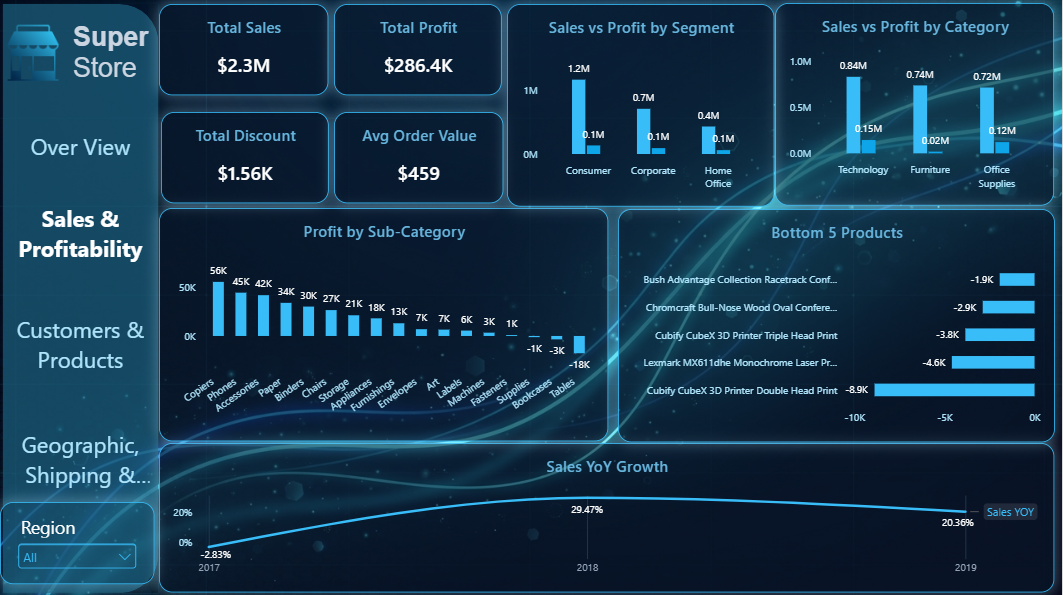

What the dashboard file says about the page in this screenshot:
{"tool":"powerbi","page":{"name":"Sales & Profitability","canvas":[1280,720],"ordinal":2},"visuals":[{"type":"group","id":"g1","title":"Group 2","box":[3.2,7.2,191.4,709.4],"z":0},{"type":"shape","box":[5.2,7.2,187.4,709.4],"z":0,"group":"g2"},{"type":"group","id":"g2","title":"Group 1","box":[5.2,7.2,187.4,709.4],"z":0,"group":"g1"},{"type":"textbox","box":[89.6,28.7,103,81.5],"z":1000,"group":"g2"},{"type":"actionButton","title":"Over View","box":[3.2,153.9,191.4,47.9],"z":1000,"group":"g1"},{"type":"lineChart","title":"Sales YoY Growth","fields":{"Category":["Calendar.Year"],"Y":["Measures (2).Sales YOY"]},"box":[194.1,535.4,1077.7,180.3],"z":1000},{"type":"clusteredColumnChart","title":"Sales vs Profit by Category","fields":{"Category":["Fact_Orders.Category"],"Y":["Measures (2).Total Sales","Measures (2).Profit"]},"box":[935.5,6.6,336.4,244],"z":2000},{"type":"image","box":[6.6,28.7,70.1,72.9],"z":2000,"group":"g2"},{"type":"actionButton","box":[3.2,239.9,191.4,88.9],"z":2000,"group":"g1"},{"type":"clusteredColumnChart","fields":{"Category":["Fact_Orders.Sub-Category"],"Y":["Measures (2).Profit"]},"box":[194.1,253.2,540.9,280.8],"z":3000},{"type":"actionButton","box":[3.2,366.9,191.4,100.8],"z":3000,"group":"g1"},{"type":"card","title":"Total Sales","fields":{"Values":["Measures (2).Total Sales"]},"box":[194.1,6.9,203.7,110],"z":4000},{"type":"actionButton","box":[3.2,505.9,191.4,100.8],"z":4000,"group":"g1"},{"type":"card","title":"Total Profit","fields":{"Values":["Measures (2).Profit"]},"box":[404.6,6.9,202.3,110],"z":5000},{"type":"card","title":"Total Discount","fields":{"Values":["Measures (2).Total Discount"]},"box":[196.8,137.6,202.3,110.1],"z":6000},{"type":"card","title":"Avg Order Value","fields":{"Values":["Measures (2).Avg Orders Value"]},"box":[404.6,137.6,203.7,110.1],"z":7000},{"type":"clusteredBarChart","title":"Bottom 5 Products","fields":{"Category":["Fact_Orders.Product Name"],"Y":["Measures (2).Profit"]},"box":[746.3,253.6,525.5,281.2],"z":8000},{"type":"clusteredColumnChart","title":"Sales vs Profit by Segment","fields":{"Category":["Fact_Orders.Segment"],"Y":["Measures (2).Total Sales","Measures (2).Profit"]},"box":[612.5,6.9,322.1,243.6],"z":9000},{"type":"slicer","fields":{"Values":["Fact_Orders.Region"]},"box":[2.8,607,185.8,99.1],"z":10000}]}

Visuals, with their boxes in screenshot pixels (x1, y1, x2, y2), scaled from the page's 1280x720 canvas onto the 1063x595 screenshot:
"Group 2" group: 3:6:162:592
shape: 4:6:160:592
"Group 1" group: 4:6:160:592
textbox: 74:24:160:91
"Over View" actionButton: 3:127:162:167
"Sales YoY Growth" lineChart: 161:442:1056:591
"Sales vs Profit by Category" clusteredColumnChart: 777:5:1056:207
image: 5:24:64:84
actionButton: 3:198:162:272
clusteredColumnChart - Fact_Orders.Sub-Category x Measures (2).Profit: 161:209:610:441
actionButton: 3:303:162:387
"Total Sales" card: 161:6:330:97
actionButton: 3:418:162:501
"Total Profit" card: 336:6:504:97
"Total Discount" card: 163:114:331:205
"Avg Order Value" card: 336:114:505:205
"Bottom 5 Products" clusteredBarChart: 620:210:1056:442
"Sales vs Profit by Segment" clusteredColumnChart: 509:6:776:207
slicer - Fact_Orders.Region: 2:502:157:584
